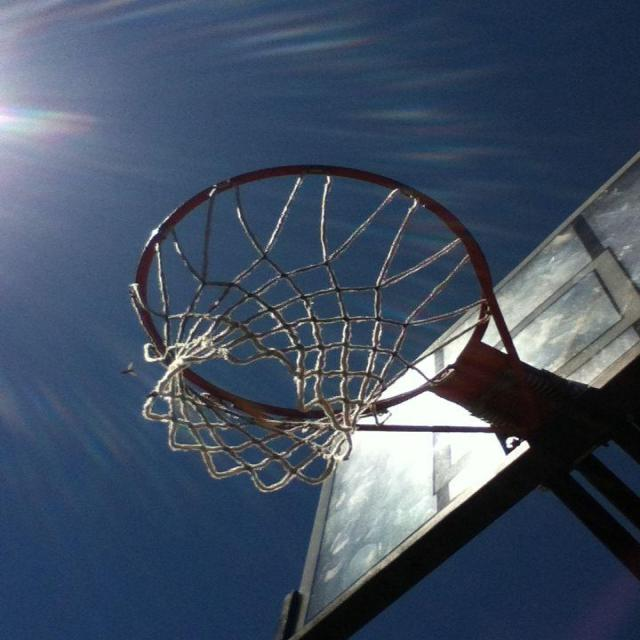hoop: (131, 171, 527, 463)
